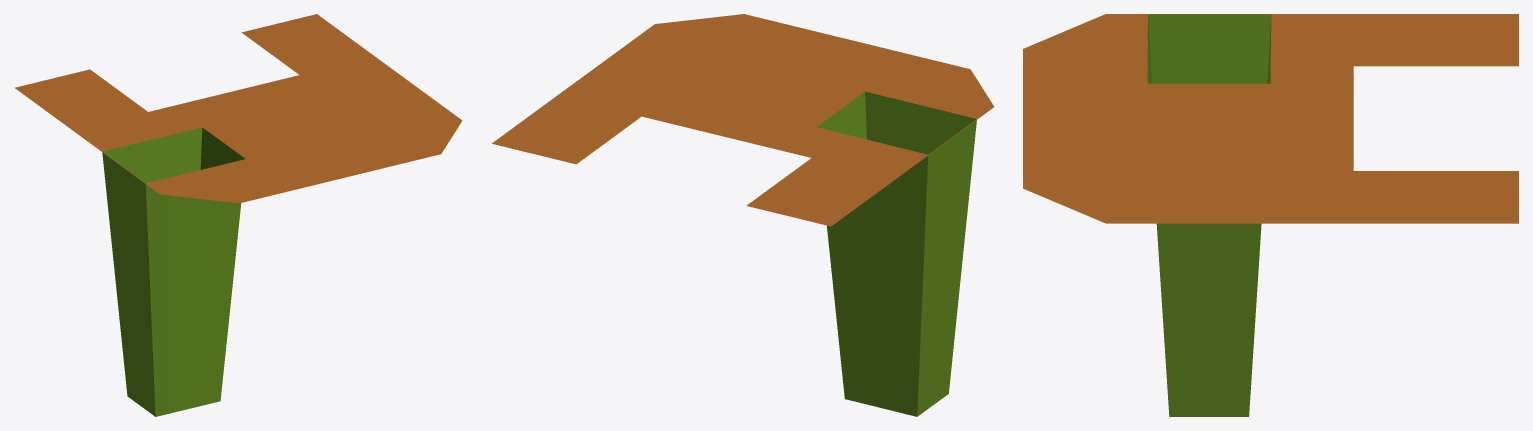
The model's file is SueloP-1Versión2.fbx.
3 views of the same model, side by side, from view 1: azimuth 30°, elevation 25°; view 2: azimuth 150°, elevation 25°; view 3: azimuth 270°, elevation 25° (orthographic). The views are drawn at different scales.
Parts seen in each view (by area): view 1: SueloP-1_UV2; view 2: SueloP-1_UV2; view 3: SueloP-1_UV2.
Part boxes in pixels (left/top/right/bottom): SueloP-1_UV2: left=14, top=14, right=462, bottom=416; SueloP-1_UV2: left=492, top=14, right=994, bottom=416; SueloP-1_UV2: left=1023, top=14, right=1518, bottom=416.
Size of the model in its own units: 4800 by 3691 by 4800.
